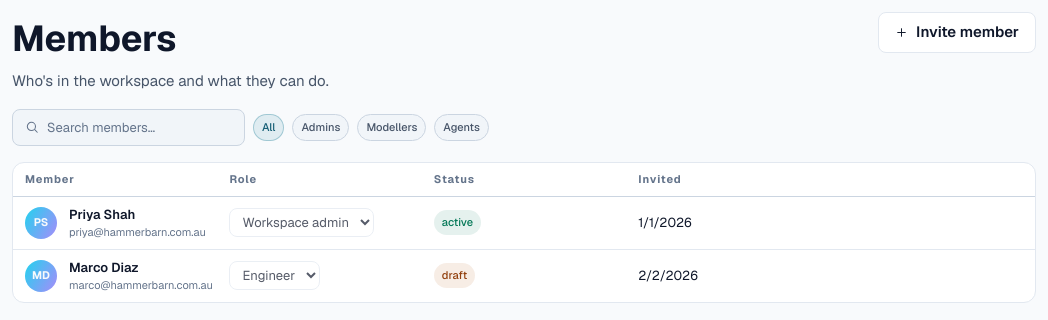
it: MembersPanel table (mock #sub-set-members) › filters the table to Admins via the filter chip
The image size is (1048, 320).
Expected: the text "Priya Shah" is shown, [69,206,135,222]
Step 1. Click the button "Admins" → x=321, y=127, box [292,114,349,140]
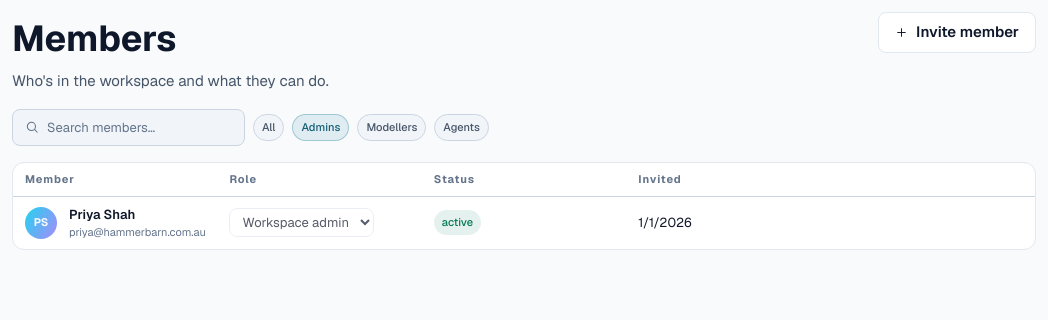
Expected: the text "Priya Shah" is shown, [69,206,135,222]
Now the text "Marco Diaz" is gone
